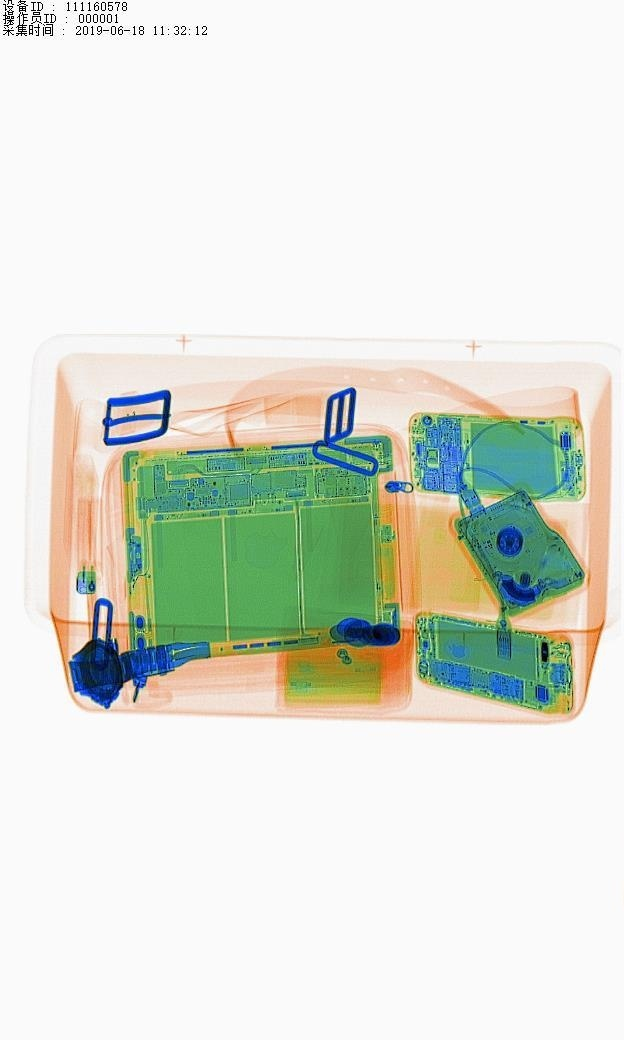NonmetallicFire: (67, 477, 108, 614)
